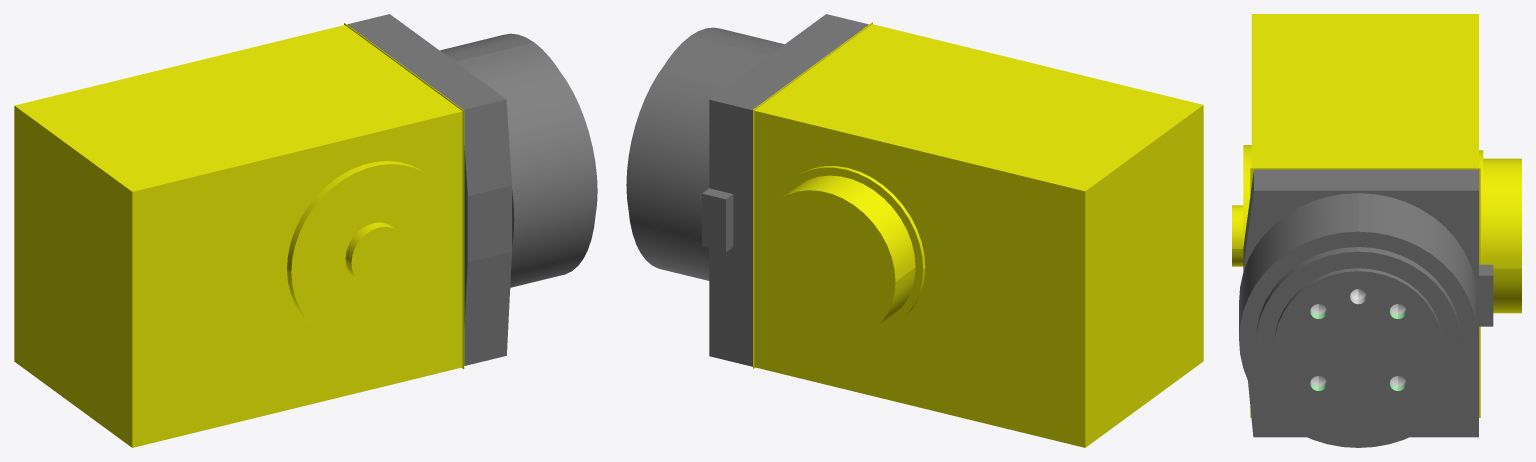
3 views of the same model, side by side, from view 1: azimuth 30°, elevation 25°; view 2: azimuth 150°, elevation 25°; view 3: azimuth 270°, elevation 25° (orthographic). The views are drawn at different scales.
Parts seen in each view (by area): view 1: Mesh_0; view 2: Mesh_0; view 3: Mesh_0.
Part boxes in pixels (x1=…): Mesh_0: x1=14, y1=14, x2=597, y2=447; Mesh_0: x1=626, y1=14, x2=1203, y2=447; Mesh_0: x1=1232, y1=14, x2=1521, y2=447.
Bounding box in the file's own units: 0.1878 × 0.1032 × 0.098.
